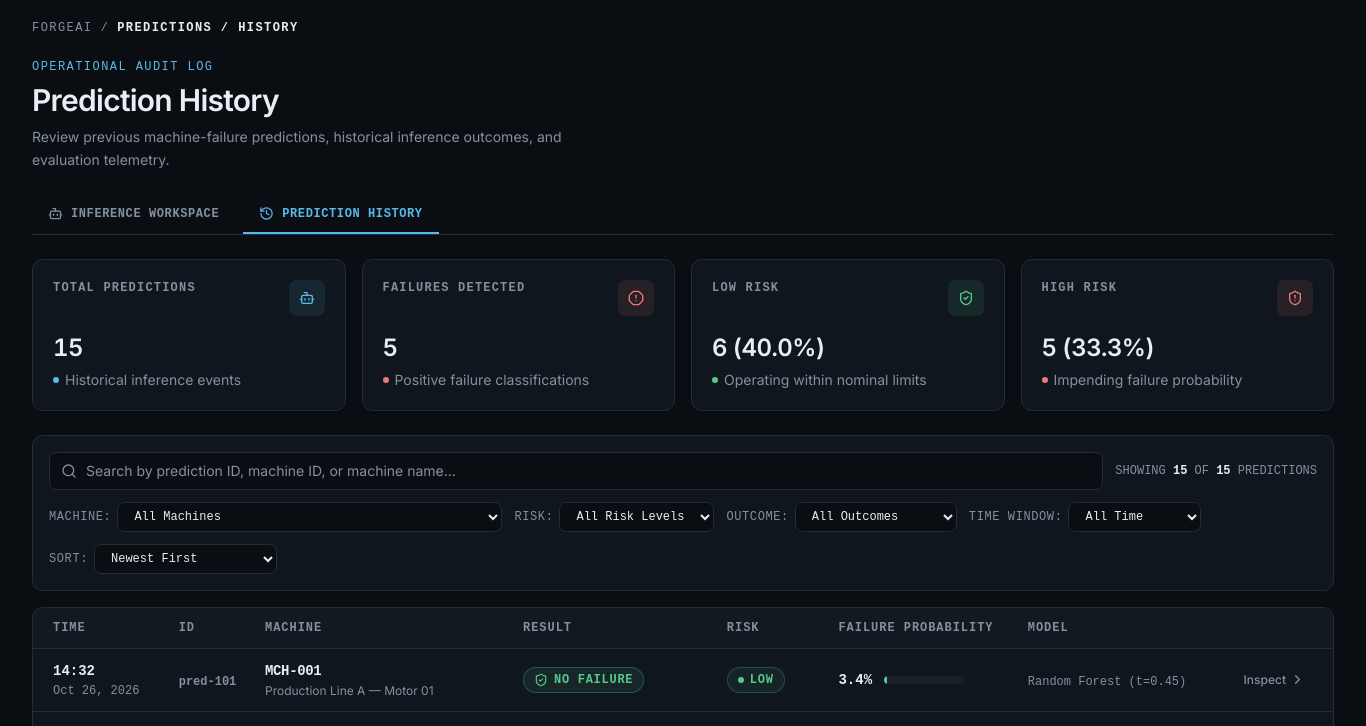
Test case: Prediction History Experience (Part 10) › renders empty matching state when search yields zero results
Type "NONEXISTENT_PRED_999" into the search field with placeholder "Search by prediction ID, machine ID, or machine name...".
click(576, 470); type("NONEXISTENT_PRED_999")  # box [49,452,1103,490]
(page scrolled)
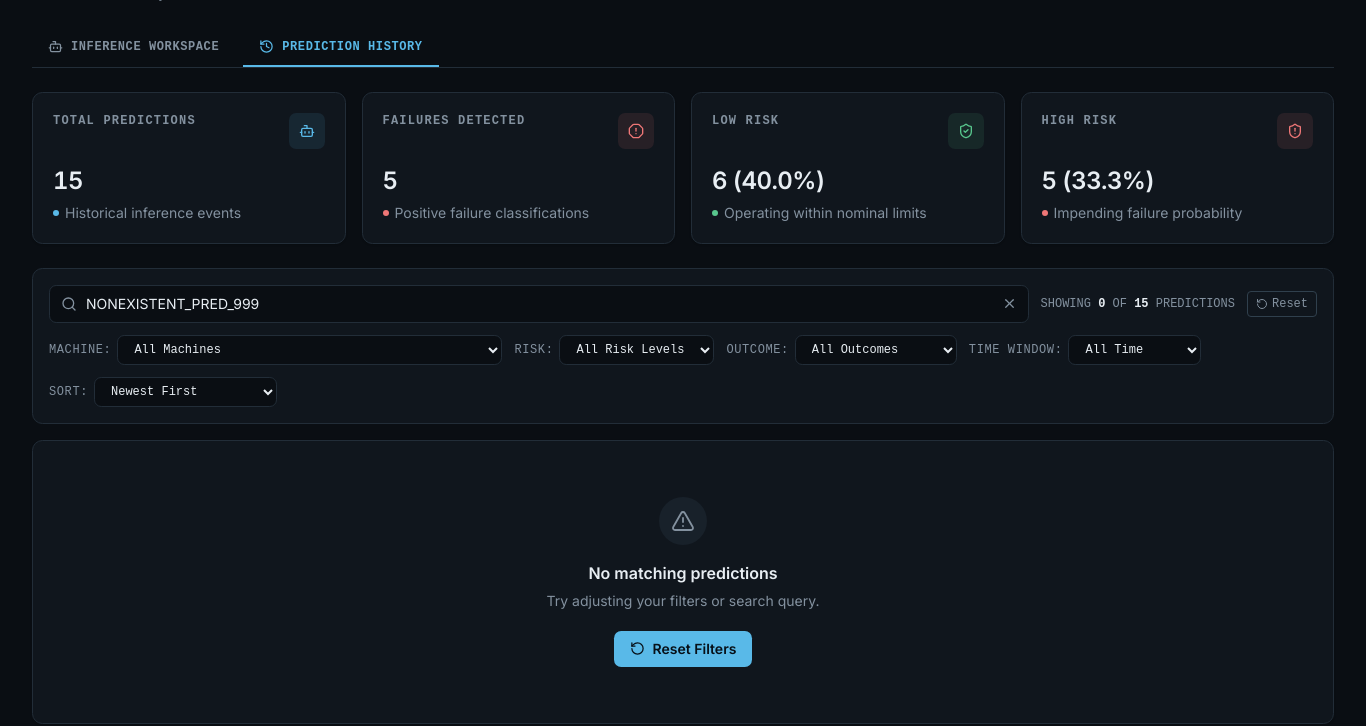
Now the heading "No matching predictions" is shown, box [588,560,778,584]
Now the text "Try adjusting your filters or search query." is shown, box [547,590,819,610]
